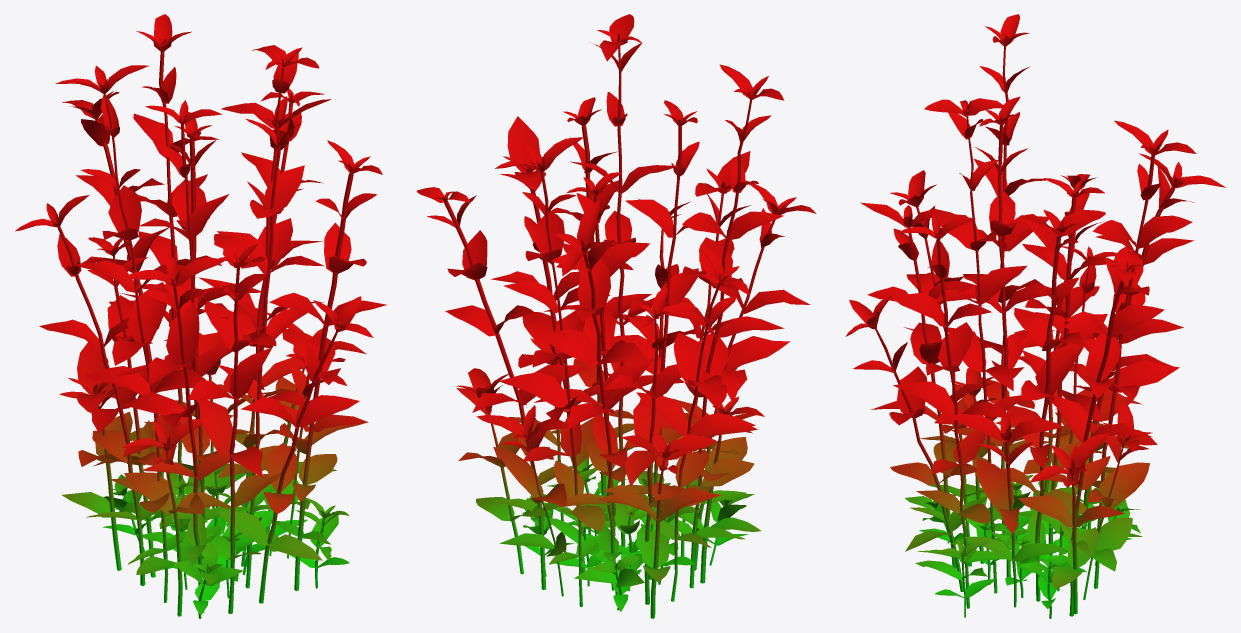
File: Var1_LOD2.fbx
The picture shows the model from 3 angles, left to right: view 1: azimuth 30°, elevation 25°; view 2: azimuth 150°, elevation 25°; view 3: azimuth 270°, elevation 25°; orthographic projection. The views are drawn at different scales.
Visible parts, largest first — view 1: _gage_Var1_LOD2; view 2: _gage_Var1_LOD2; view 3: _gage_Var1_LOD2.
Boxes of the visible parts, x1,y1,x2,y2 form: _gage_Var1_LOD2: (15, 14, 386, 618); _gage_Var1_LOD2: (416, 14, 816, 618); _gage_Var1_LOD2: (845, 14, 1225, 618).
Bounding box in the file's own units: 37.56 × 60.08 × 40.77.
